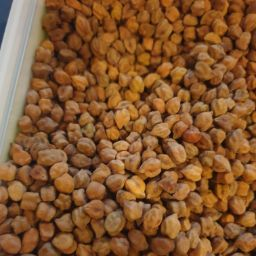Black Chickpeas: (44, 2, 255, 256), (28, 59, 242, 181), (6, 37, 103, 256)
